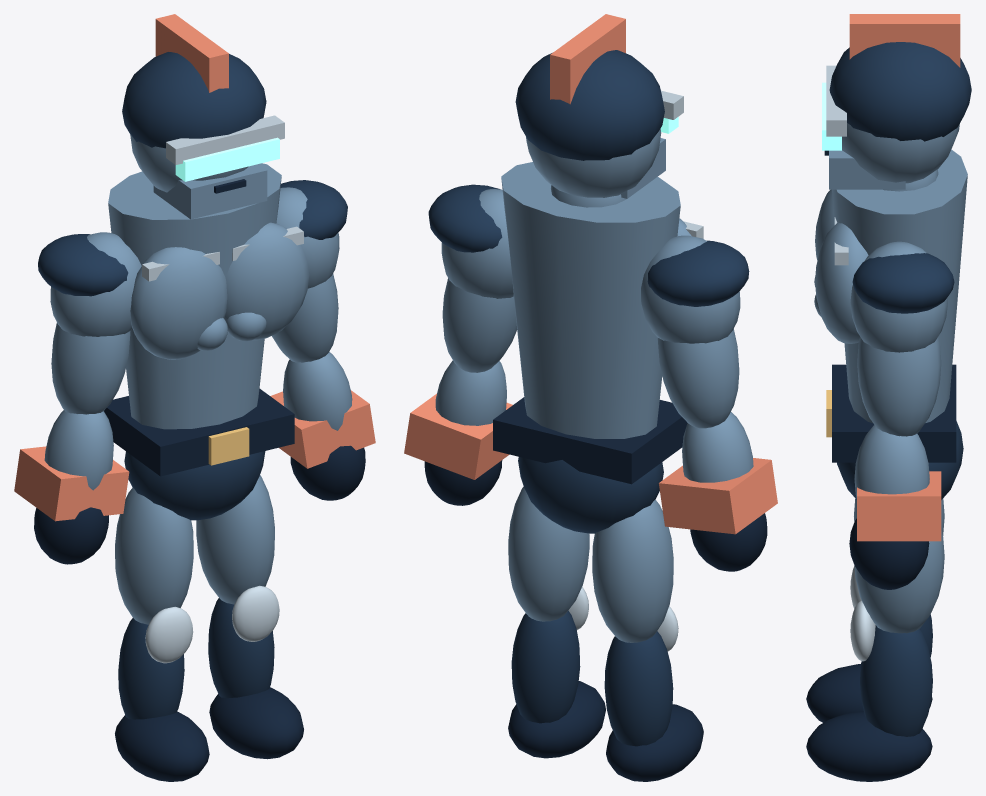
Rendered from starter.glb.
3 renders of one model, left to right at view 1: azimuth 30°, elevation 25°; view 2: azimuth 150°, elevation 25°; view 3: azimuth 270°, elevation 25°, orthographic. The views are drawn at different scales.
Parts seen in each view (by area): view 1: Torso, Helmet, Pectoral_L, Thigh_L, Belt, Thigh_R, Pectoral_R, Pelvis, Bicep_L, Boot_L, Boot_R, Cosmetic_Bracer_L (+22 smaller); view 2: Torso, Helmet, Thigh_L, Belt, Thigh_R, Pelvis, Shin_L, Shin_R, Cosmetic_Bracer_L, Bicep_L, Bicep_R, ShoulderPlate_L (+14 smaller); view 3: Torso, Helmet, Shin_R, Bicep_R, Boot_R, ShoulderPlate_R, Cosmetic_Bracer_R, Belt, Deltoid_R, Forearm_R, Face, Thigh_R (+12 smaller).
Part boxes in pixels (x1=…): Torso: x1=108, y1=163, x2=281, y2=429; Helmet: x1=122, y1=52, x2=266, y2=148; Pectoral_L: x1=130, y1=247, x2=227, y2=359; Thigh_L: x1=115, y1=487, x2=193, y2=624; Belt: x1=104, y1=388, x2=294, y2=476; Thigh_R: x1=196, y1=475, x2=274, y2=604; Pectoral_R: x1=224, y1=222, x2=309, y2=340; Pelvis: x1=124, y1=451, x2=265, y2=520; Bicep_L: x1=51, y1=323, x2=130, y2=414; Boot_L: x1=115, y1=711, x2=209, y2=781; Boot_R: x1=209, y1=687, x2=303, y2=759; Cosmetic_Bracer_L: x1=14, y1=446, x2=129, y2=521; Torso: x1=501, y1=162, x2=680, y2=438; Helmet: x1=515, y1=50, x2=664, y2=160; Thigh_L: x1=592, y1=499, x2=673, y2=642; Belt: x1=493, y1=397, x2=687, y2=484; Thigh_R: x1=508, y1=486, x2=589, y2=621; Pelvis: x1=518, y1=457, x2=663, y2=533; Shin_L: x1=604, y1=631, x2=673, y2=746; Shin_R: x1=511, y1=610, x2=580, y2=723; Cosmetic_Bracer_L: x1=658, y1=458, x2=777, y2=534; Bicep_L: x1=657, y1=329, x2=739, y2=428; Bicep_R: x1=442, y1=278, x2=517, y2=372; ShoulderPlate_L: x1=647, y1=240, x2=749, y2=306; Torso: x1=832, y1=149, x2=967, y2=422; Helmet: x1=829, y1=42, x2=971, y2=141; Shin_R: x1=860, y1=625, x2=932, y2=736; Bicep_R: x1=857, y1=336, x2=941, y2=436; Boot_R: x1=806, y1=711, x2=932, y2=781; ShoulderPlate_R: x1=852, y1=253, x2=954, y2=313; Cosmetic_Bracer_R: x1=857, y1=471, x2=941, y2=541; Belt: x1=832, y1=364, x2=956, y2=462; Deltoid_R: x1=850, y1=241, x2=947, y2=352; Forearm_R: x1=854, y1=425, x2=929, y2=498; Face: x1=842, y1=123, x2=959, y2=183; Thigh_R: x1=854, y1=530, x2=944, y2=633.
Bounding box in the file's own units: 1.35 × 2.85 × 0.5823.
